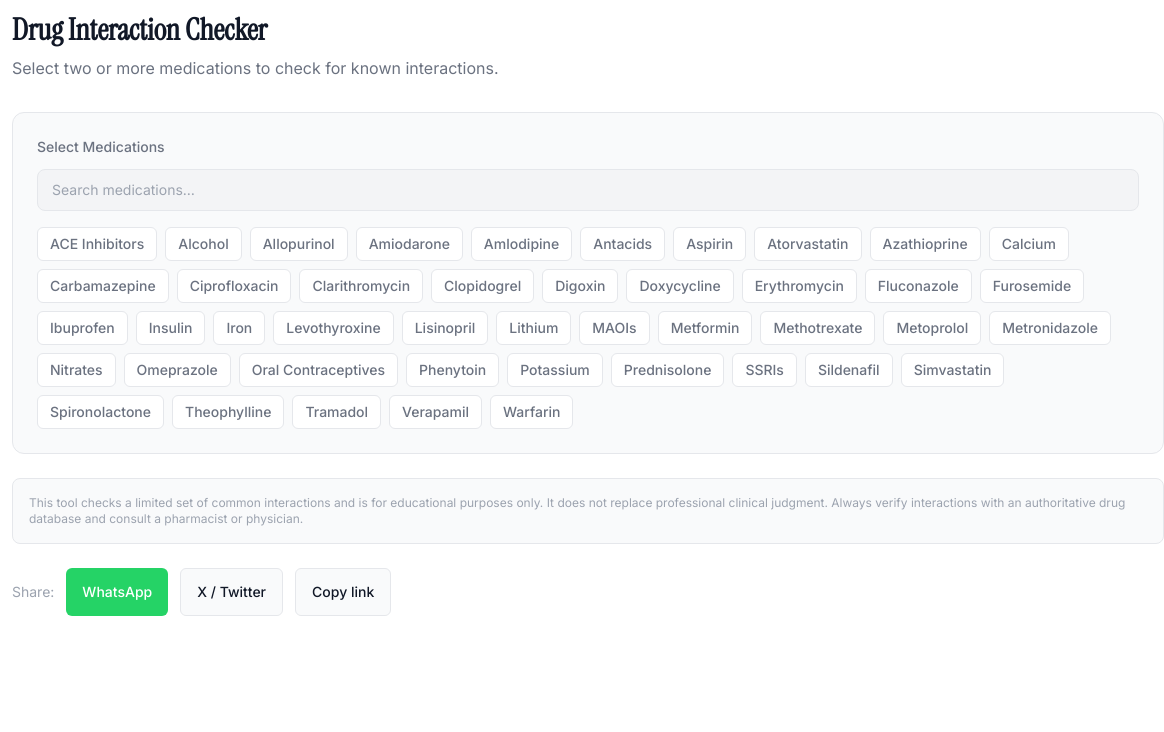
Test: DrugInteractionChecker › clears all selections with the Clear all button
This screenshot has width=1164, height=732.
Click the button "Warfarin".
click(532, 412)  # box [490,395,573,429]
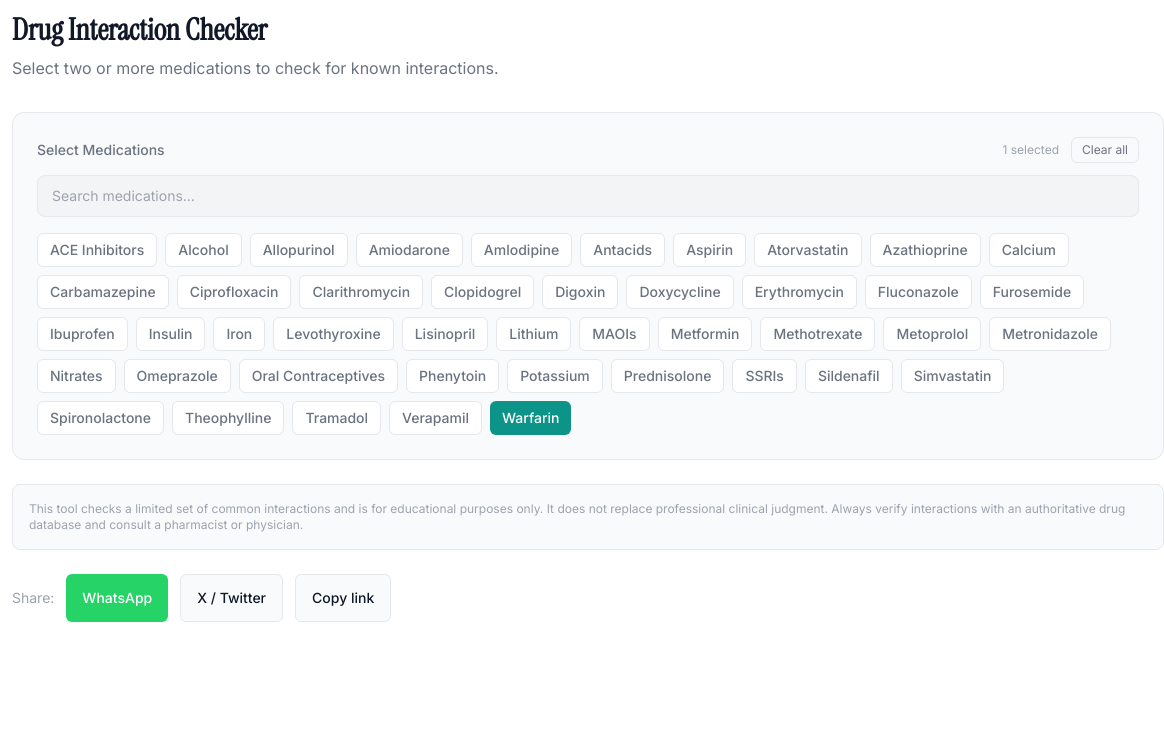
Click the button "Aspirin".
click(710, 250)  # box [673,233,746,267]
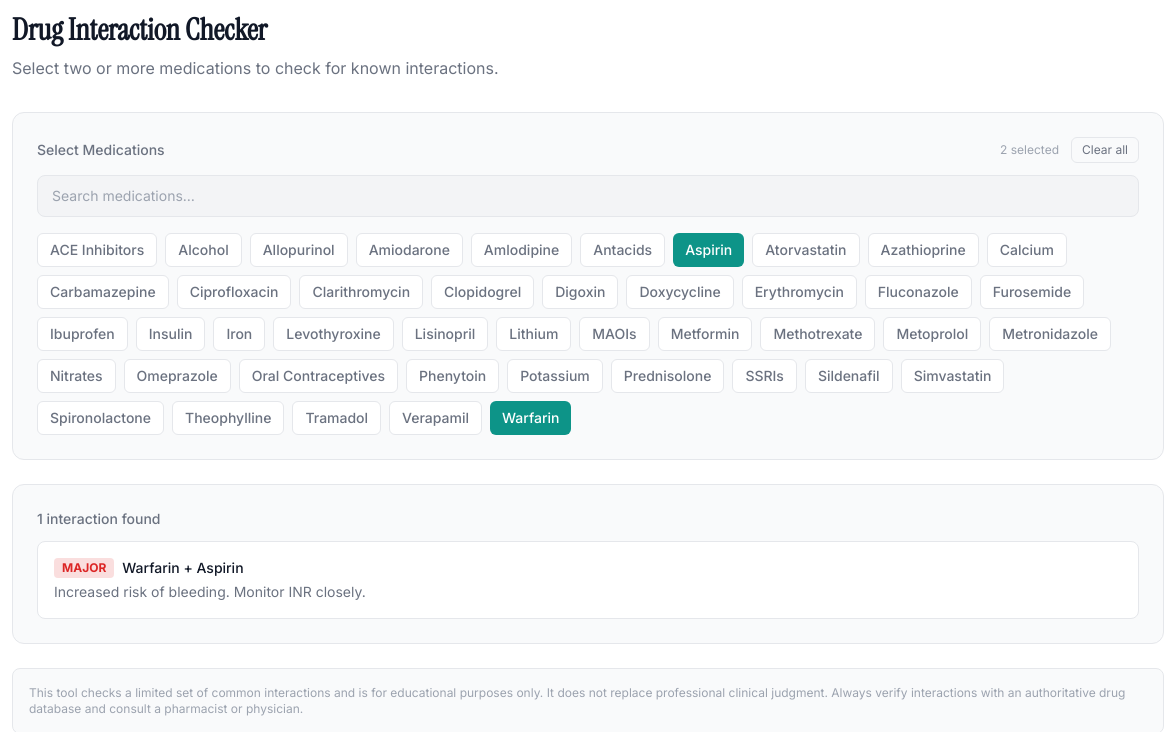
Expected: the heading "1 interaction found" is shown, [37,510,160,527]
Click the button "Clear all".
click(1105, 150)  # box [1071,137,1139,163]
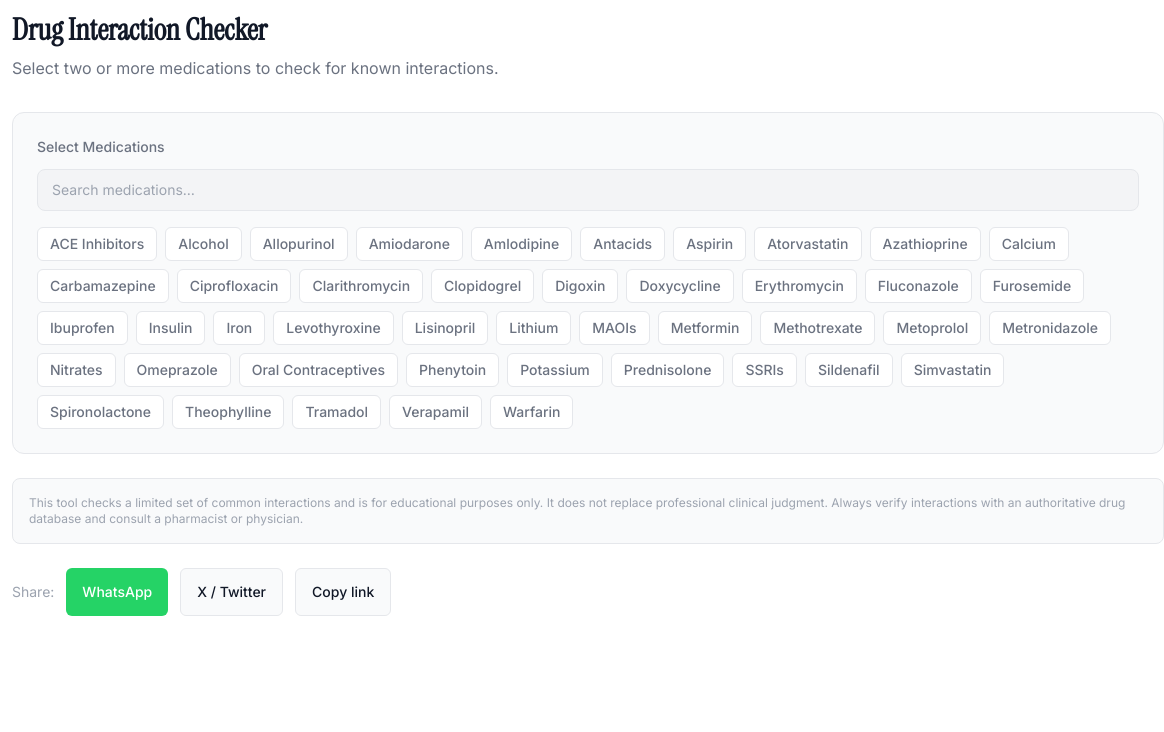
Expected: the heading "1 interaction found" is gone
Expected: the button "Clear all" is gone
